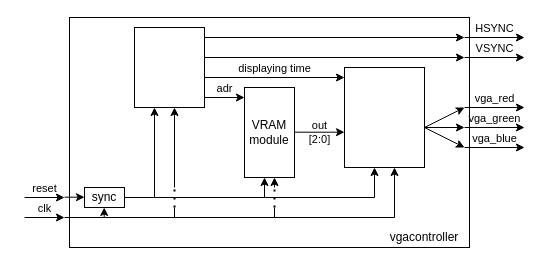
The diagram is 550 pixels wide and 265 high, and some of its shapes have lost their labels. The centre of each missing label's shape, as x and y in pixels:
is it in displaying time: [384,117]
sync_pulse module: [169,67]
